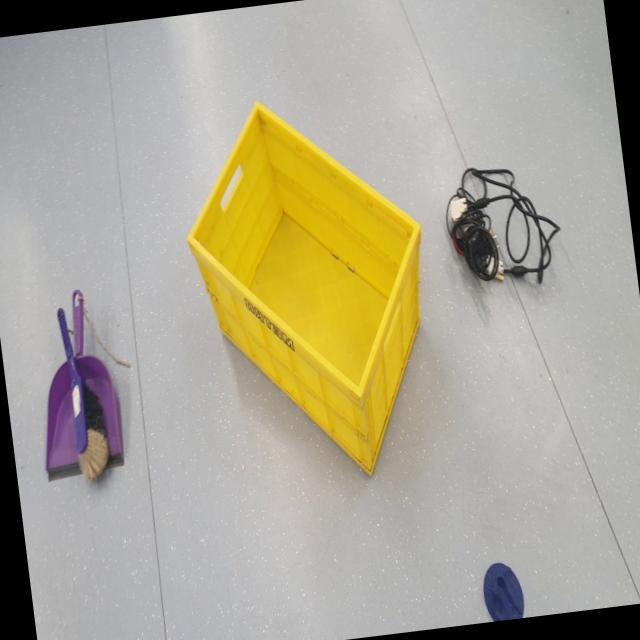box: (166, 68, 457, 517)
